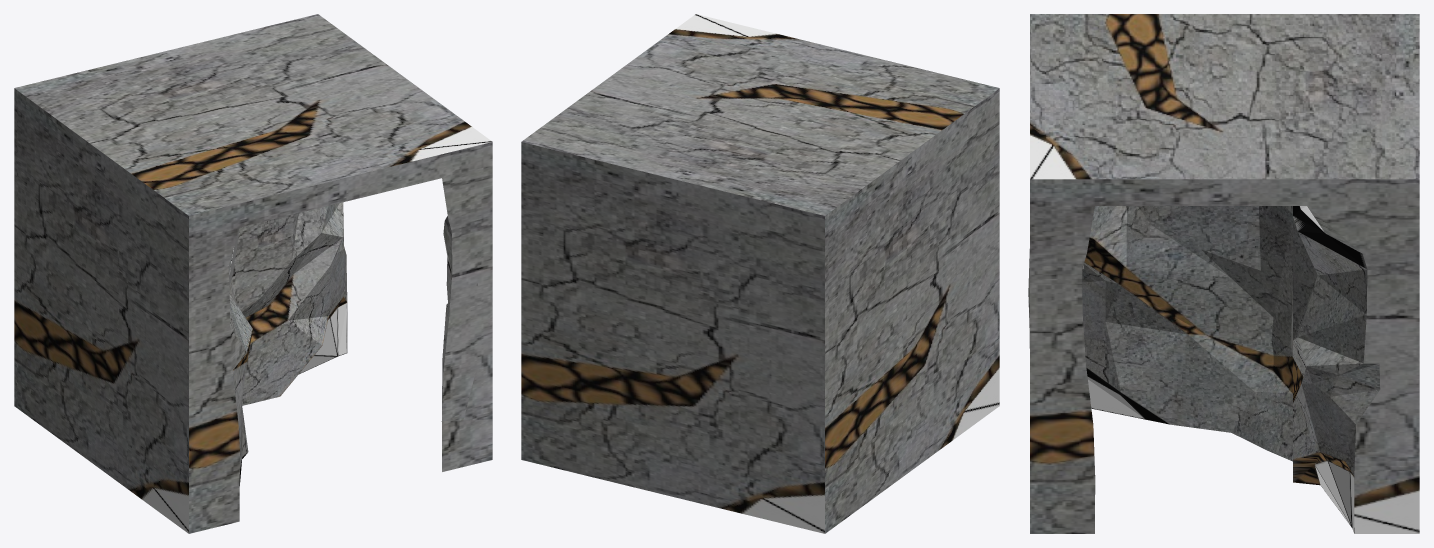
Rendered from EspacioPirateriaScrollGiroBajoNI.gltf.
The picture shows the model from 3 angles, left to right: view 1: azimuth 30°, elevation 25°; view 2: azimuth 150°, elevation 25°; view 3: azimuth 270°, elevation 25°; orthographic projection. The views are drawn at different scales.
Visible parts, largest first — view 1: Cubo.30; view 2: Cubo.30; view 3: Cubo.30.
Part boxes in pixels (x1,y1,x2,y2): Cubo.30: [14, 14, 492, 533]; Cubo.30: [521, 14, 999, 533]; Cubo.30: [1028, 14, 1419, 533].
Bounding box in the file's own units: 2 × 2 × 2.
1 material, 1 textured.
